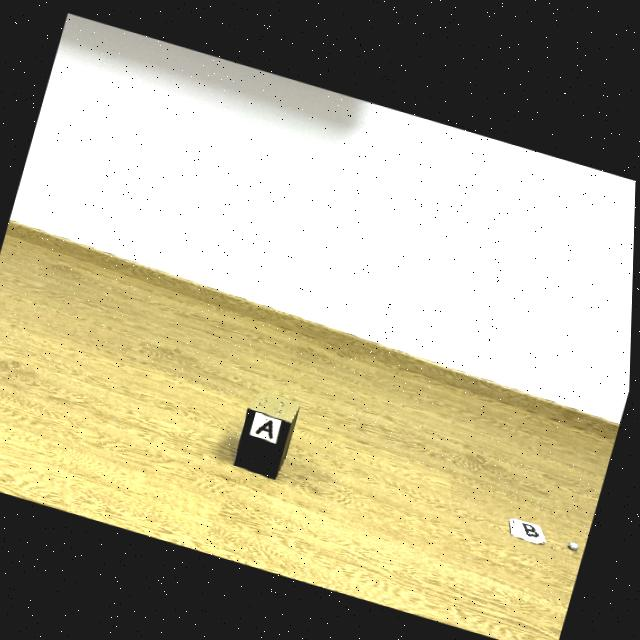A: (257, 417, 276, 435)
B: (525, 517, 541, 532)
